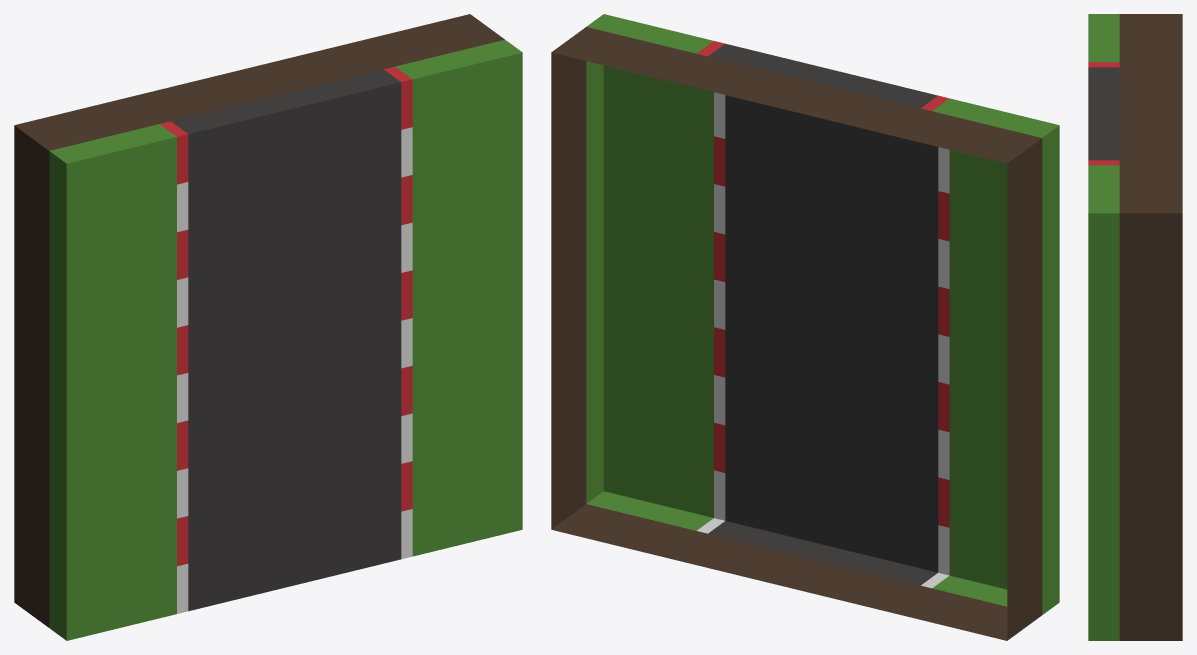
File: race_grass_straight.glb
3 renders of one model, left to right at view 1: azimuth 30°, elevation 25°; view 2: azimuth 150°, elevation 25°; view 3: azimuth 270°, elevation 25°, orthographic. The views are drawn at different scales.
Visible parts, largest first — view 1: tile-race-track-straight; view 2: tile-race-track-straight; view 3: tile-race-track-straight.
Part boxes in pixels (box(x1,y1,x2,y2)): tile-race-track-straight: box(14, 14, 522, 640); tile-race-track-straight: box(551, 14, 1059, 640); tile-race-track-straight: box(1088, 14, 1182, 640).
Size of the model in its own units: 30 by 30 by 6.
1 material, 1 textured.
